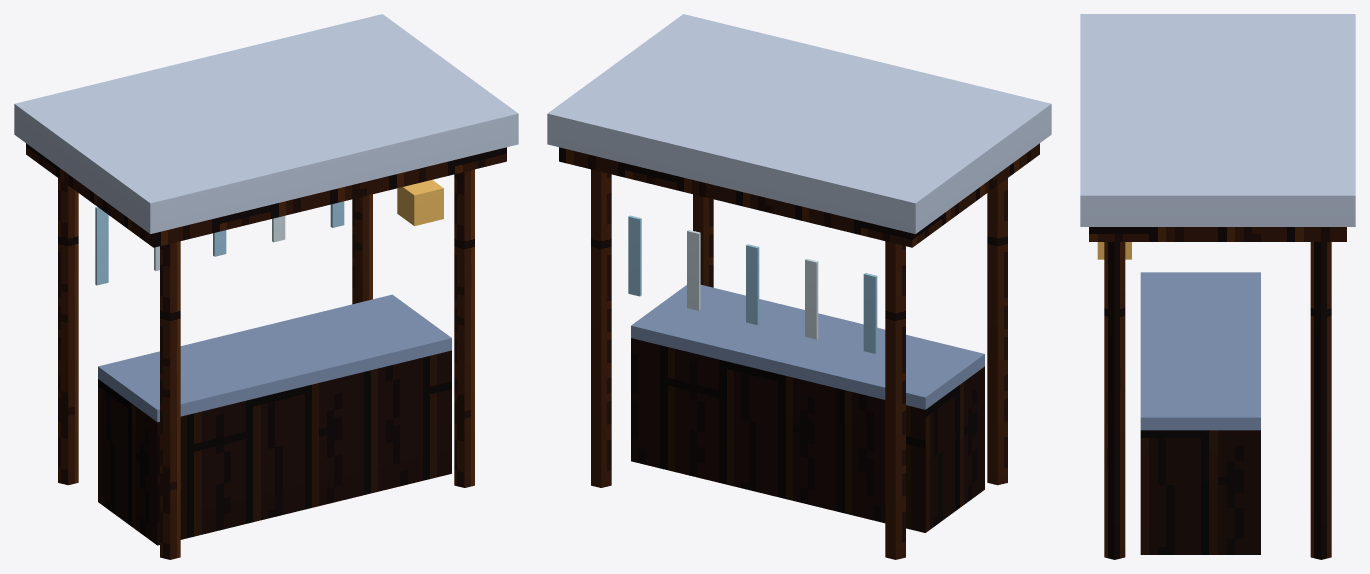
File: fish_stall.glb
The picture shows the model from 3 angles, left to right: view 1: azimuth 30°, elevation 25°; view 2: azimuth 150°, elevation 25°; view 3: azimuth 270°, elevation 25°; orthographic projection.
Parts seen in each view (by area): view 1: fish_stall; view 2: fish_stall; view 3: fish_stall.
Boxes of the visible parts, x1=… form: fish_stall: x1=14, y1=14, x2=518, y2=559; fish_stall: x1=547, y1=14, x2=1051, y2=559; fish_stall: x1=1080, y1=14, x2=1355, y2=559.
Size of the model in its own units: 2.5 by 2.42 by 1.6.
Materials: 3 (1 with a texture image).
